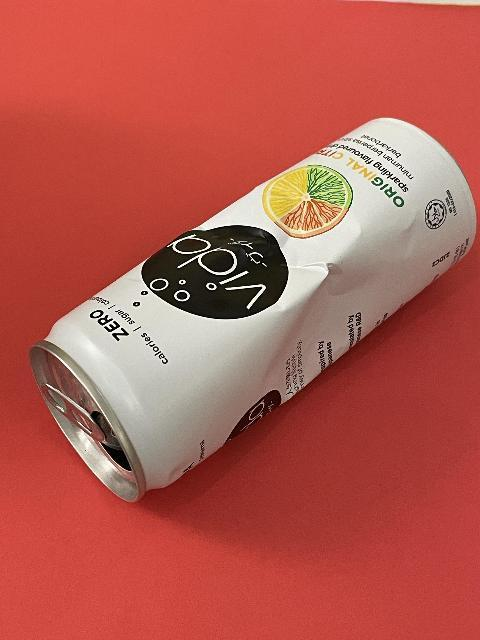drinkcan: (30, 114, 476, 506)
